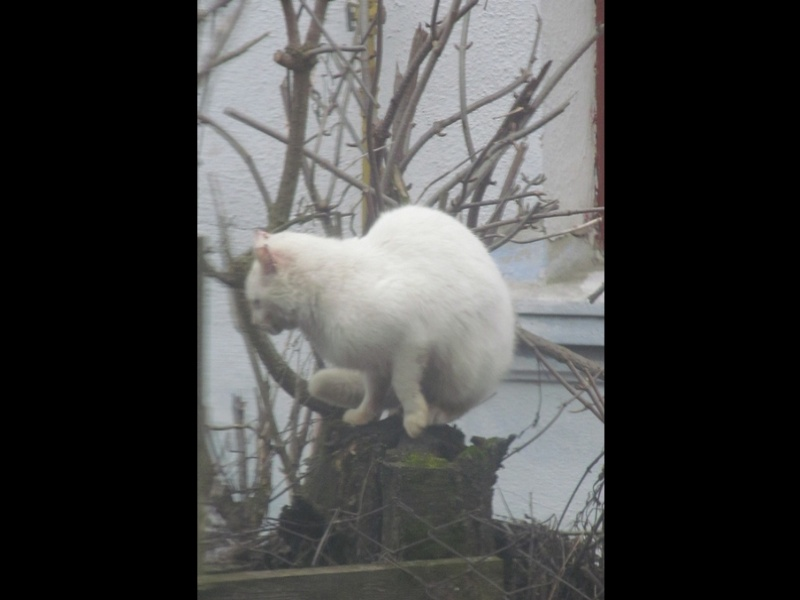cat: (238, 198, 521, 435)
